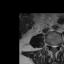CCS_normal: (53, 43, 55, 51)
LFS_stenosis: (57, 43, 59, 48)
LLS_normal: (55, 43, 57, 50)
RFS_stenosis: (49, 42, 51, 48)
RLS_normal: (51, 43, 53, 50)
